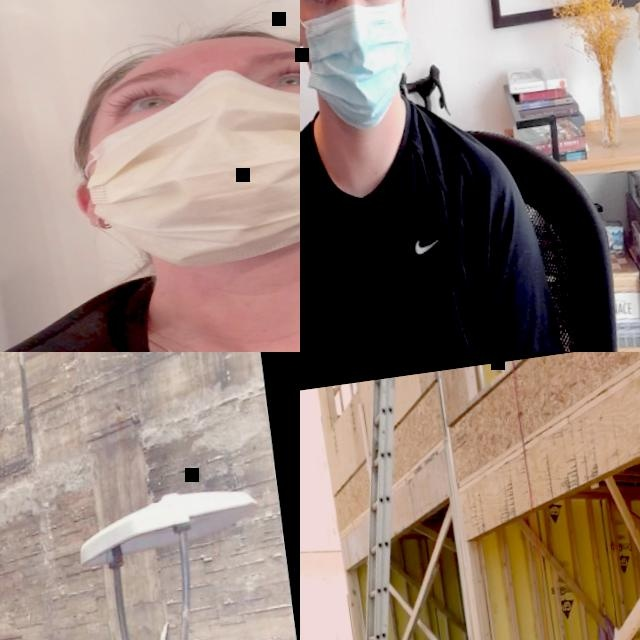Mask: (52, 54, 300, 283), (300, 0, 423, 141)
NO-Hardhat: (80, 17, 300, 85)
NO-Safety Vest: (300, 94, 516, 352), (0, 254, 300, 352)
Person: (0, 0, 300, 352), (300, 0, 583, 352)
machinery: (45, 480, 299, 640)
